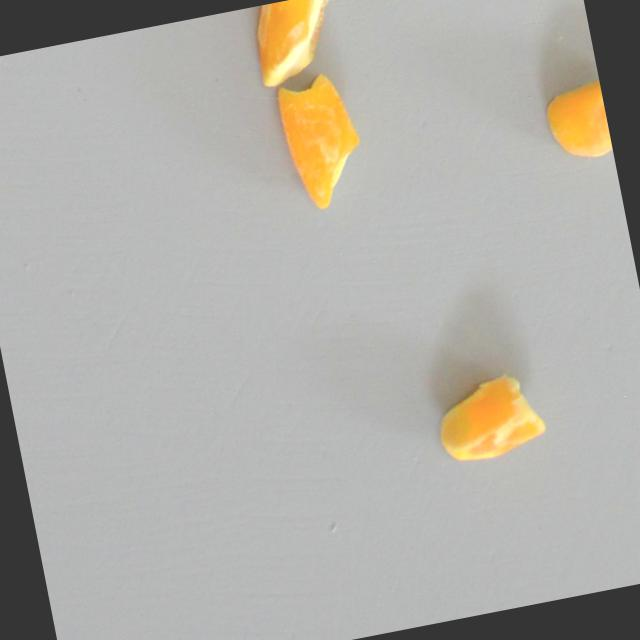pelicula: (269, 69, 371, 214), (428, 366, 552, 468), (249, 0, 351, 88), (539, 78, 614, 167)
